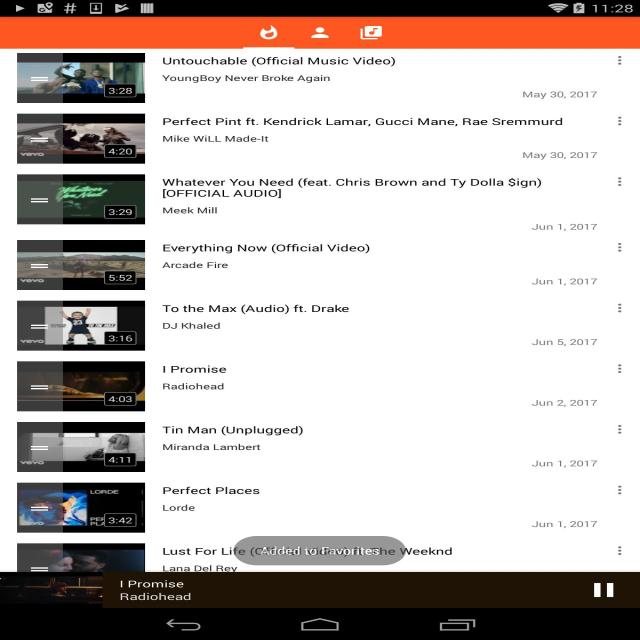button: (1, 168, 640, 234), (0, 290, 640, 355), (1, 415, 640, 478), (1, 48, 640, 108), (1, 355, 640, 415), (1, 480, 640, 537), (1, 110, 640, 165), (1, 235, 640, 289), (2, 538, 640, 576), (2, 572, 637, 608), (299, 20, 342, 44), (247, 22, 290, 45), (354, 21, 388, 45), (591, 580, 620, 603), (608, 172, 631, 192), (613, 297, 631, 320), (612, 357, 632, 377), (611, 112, 629, 132), (611, 51, 629, 70), (610, 482, 630, 498), (612, 420, 631, 436), (612, 542, 630, 557), (614, 238, 628, 254)
heading: (154, 174, 548, 200), (160, 114, 566, 130), (159, 544, 453, 558), (158, 239, 374, 257), (159, 52, 398, 68), (157, 302, 356, 316), (158, 422, 306, 436), (156, 484, 263, 497), (157, 362, 233, 376)
image: (16, 52, 145, 102), (16, 174, 143, 224), (18, 241, 146, 289), (17, 362, 145, 410), (18, 483, 146, 531), (20, 422, 146, 470), (19, 114, 144, 162), (20, 302, 144, 350), (15, 544, 144, 572)
text: (161, 74, 333, 85), (260, 544, 383, 558), (157, 133, 273, 145), (160, 441, 263, 454), (526, 394, 600, 410), (528, 456, 602, 471), (524, 219, 602, 233), (520, 147, 598, 160), (158, 379, 230, 393), (158, 259, 230, 273), (518, 88, 598, 100), (158, 318, 224, 332), (528, 275, 599, 288), (528, 335, 604, 347), (158, 564, 244, 574), (529, 518, 600, 530), (158, 204, 222, 216), (157, 502, 198, 514)
